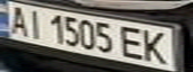0: (75, 17, 96, 52)
1: (42, 11, 66, 44)
5: (93, 20, 118, 55), (60, 15, 81, 47)
A: (3, 3, 30, 36)
E: (118, 25, 148, 61)
I: (24, 8, 48, 39)
K: (139, 28, 175, 65)
